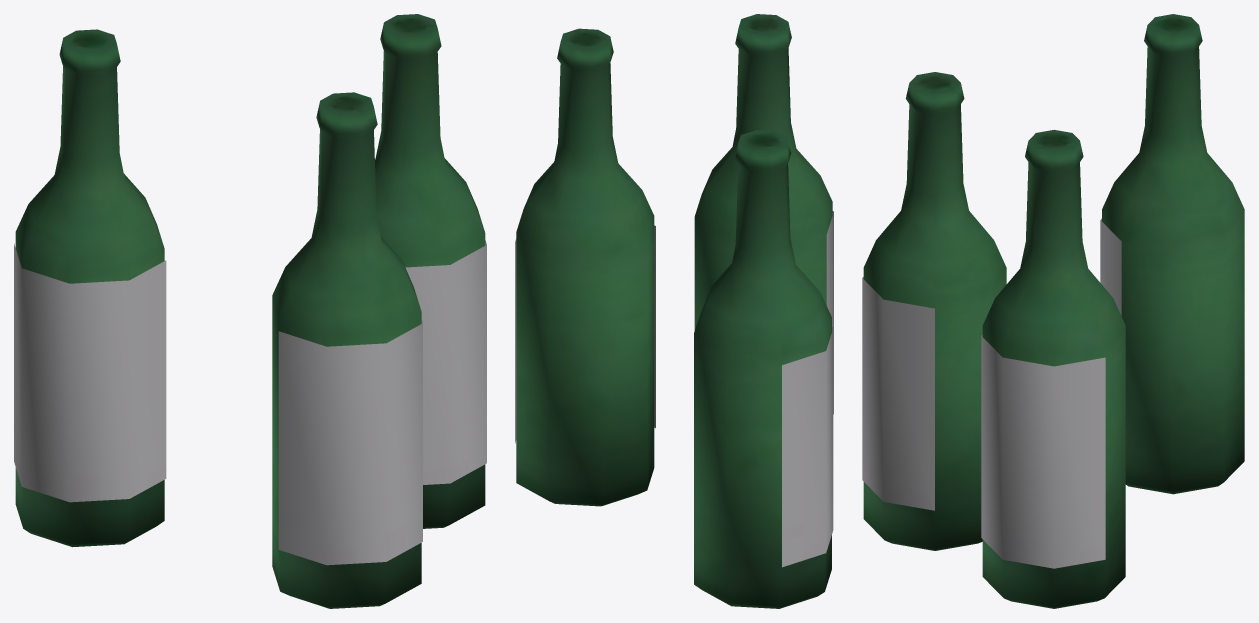
3 views of the same model, side by side, from view 1: azimuth 30°, elevation 25°; view 2: azimuth 150°, elevation 25°; view 3: azimuth 270°, elevation 25° (orthographic). The views are drawn at different scales.
Bounding box in the file's own units: 6.34 × 7.38 × 5.78.
3 materials, 3 textured.
